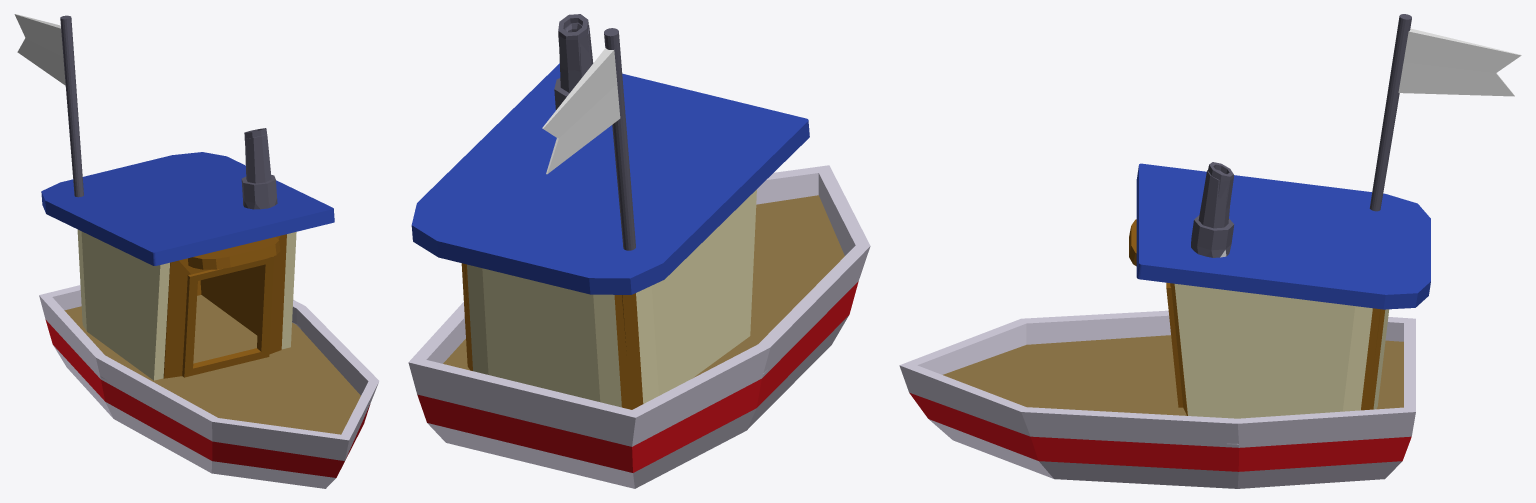
Rendered from Barquito.fbx.
3 renders of one model, left to right at view 1: azimuth 30°, elevation 25°; view 2: azimuth 150°, elevation 25°; view 3: azimuth 270°, elevation 25°, orthographic. The views are drawn at different scales.
Parts seen in each view (by area): view 1: Bote, Bandera; view 2: Bote, Bandera; view 3: Bote, Bandera.
Part boxes in pixels (x1=…): Bote: x1=39, y1=15, x2=379, y2=488; Bandera: x1=14, y1=14, x2=65, y2=85; Bote: x1=408, y1=14, x2=870, y2=488; Bandera: x1=542, y1=48, x2=620, y2=174; Bote: x1=899, y1=14, x2=1430, y2=488; Bandera: x1=1398, y1=28, x2=1521, y2=96.
Bounding box in the file's own units: 277 × 430 × 622.
